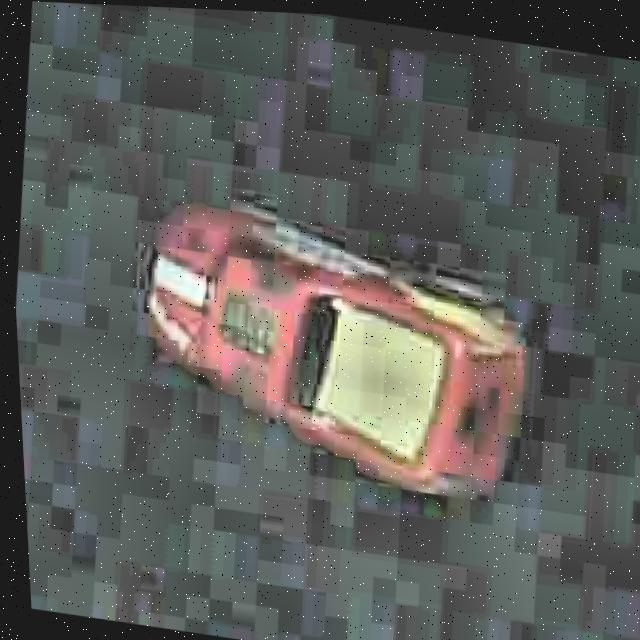car: (111, 186, 559, 516)
